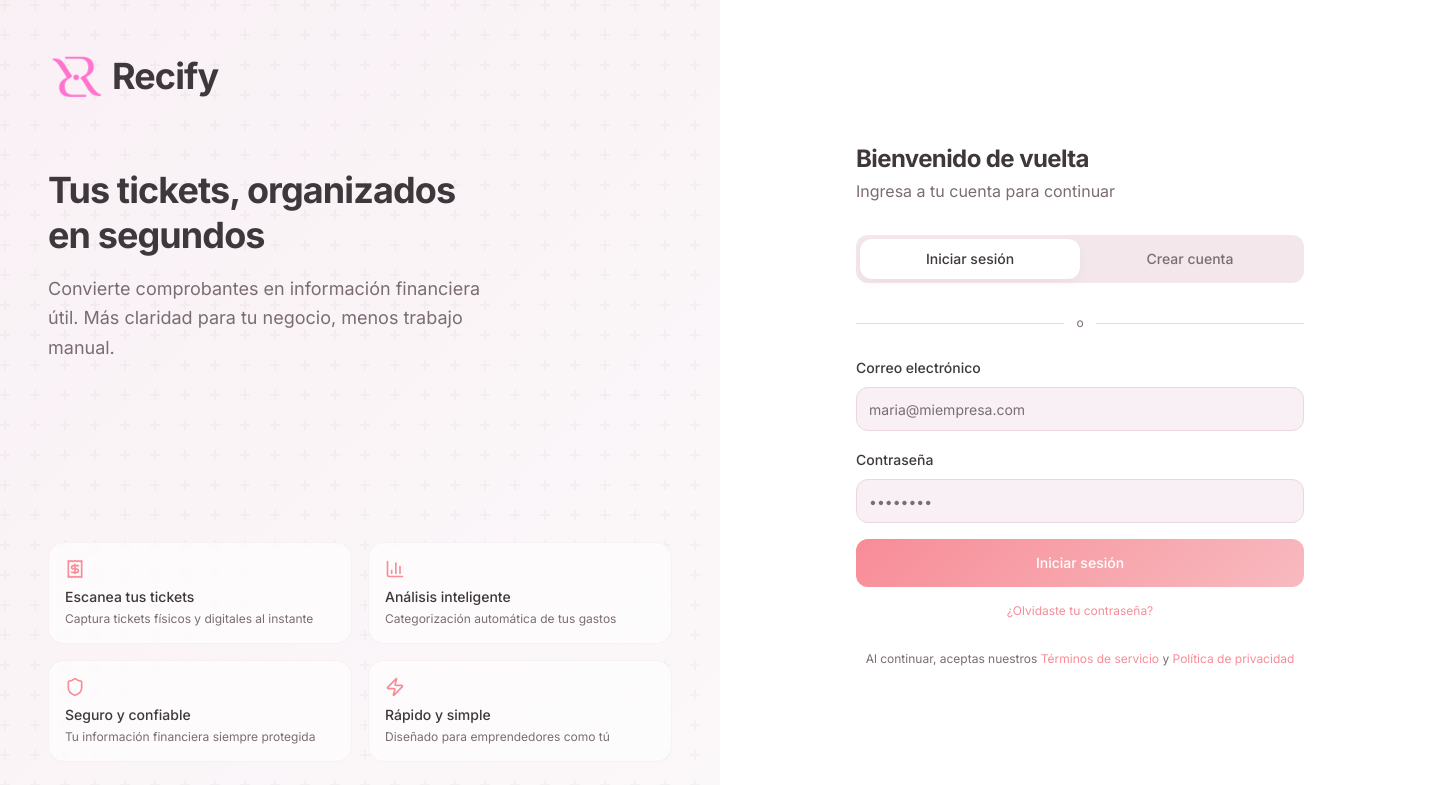
Register onboarding UI › shows account and company fields on the register tab
The image size is (1440, 785).
Click the button "Crear cuenta": (1190, 259) left=1080, top=239, right=1300, bottom=279
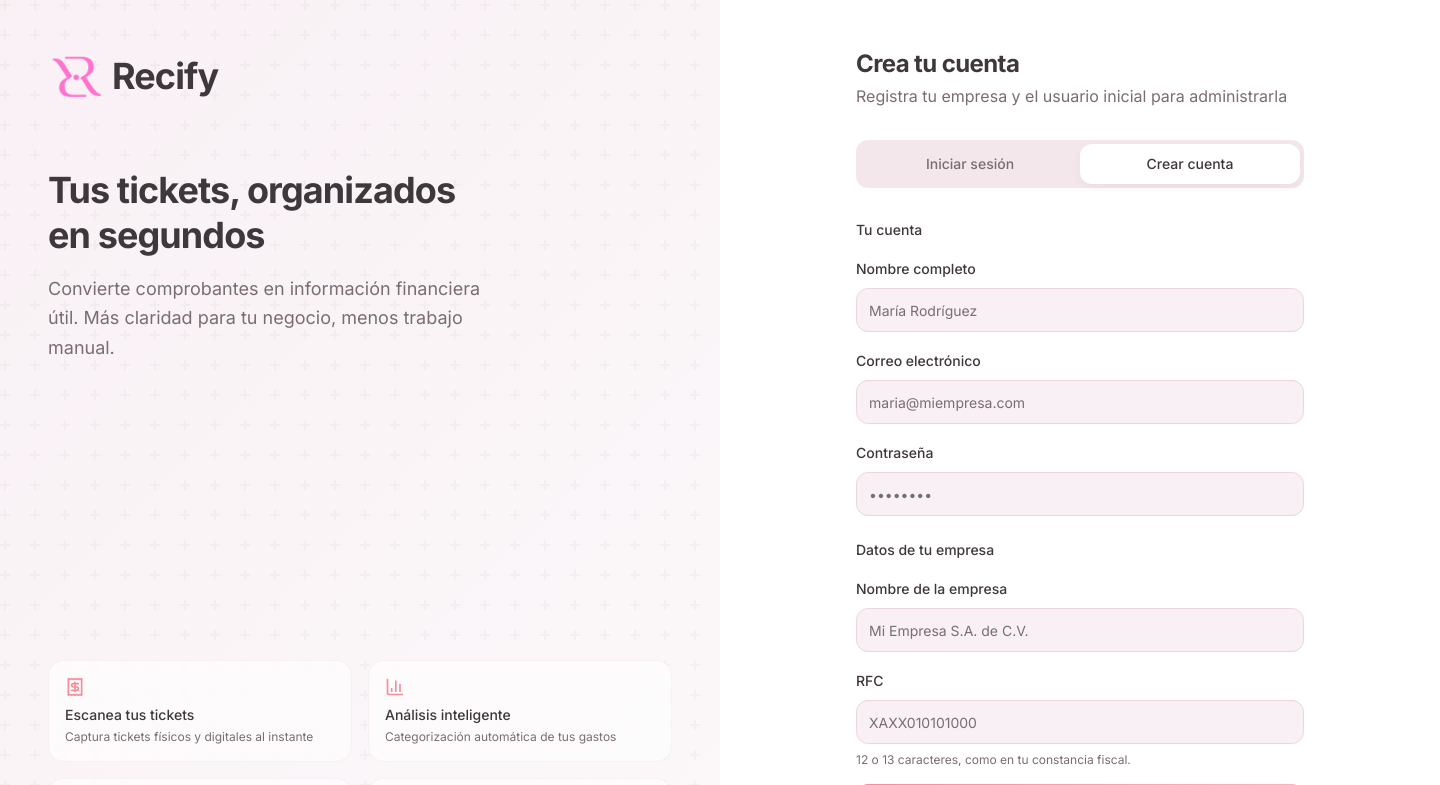
Check: the text "Tu cuenta" is shown, box left=856, top=221, right=922, bottom=238
Check: the text "Datos de tu empresa" is shown, box left=856, top=541, right=994, bottom=558
Check: the field labelled "Nombre completo" is shown, box left=856, top=288, right=1304, bottom=332
